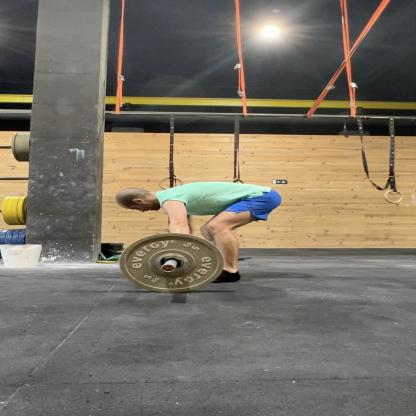barbell: (121, 234, 226, 294)
